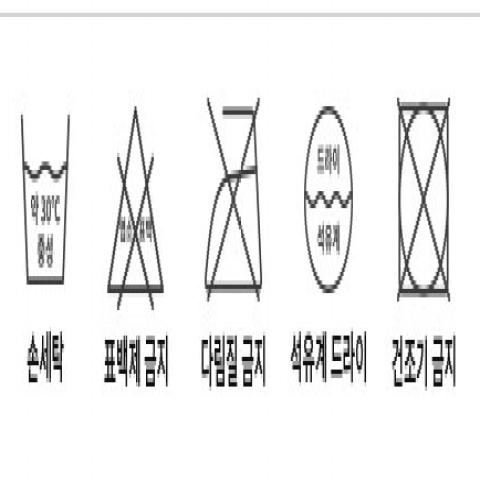30C: (15, 109, 81, 293)
DN_iron: (198, 93, 279, 310)
DN_tumble_dry: (386, 96, 458, 307)
dry_clean_petrol_only: (293, 108, 366, 297)
non_chlorine_bleach: (100, 104, 173, 313)
